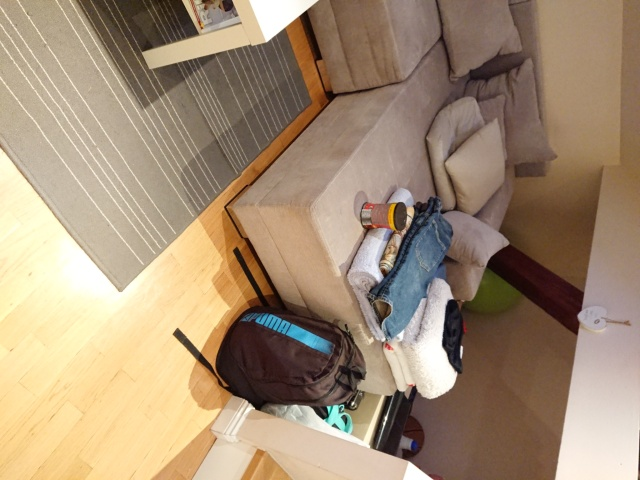Nescafe Classic 225g: (358, 200, 409, 233)
